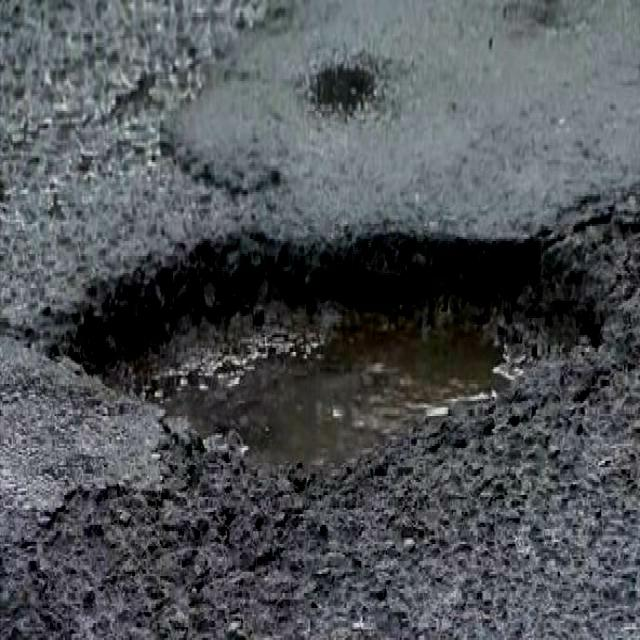Pothole: (42, 218, 609, 489), (304, 47, 384, 122)
